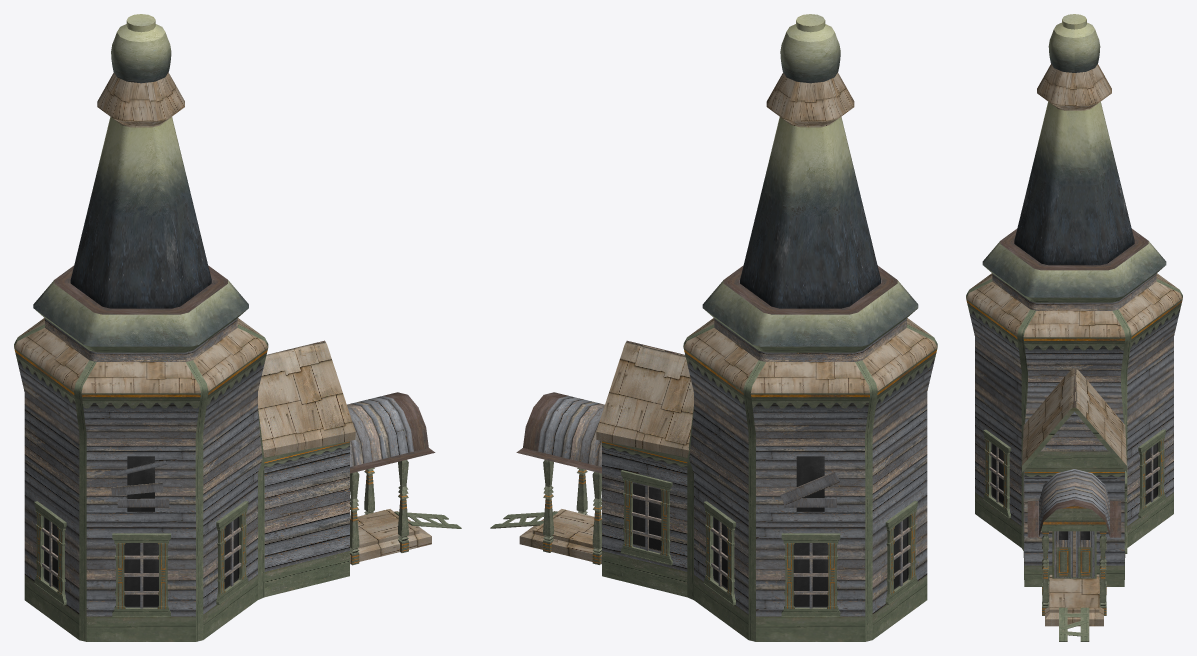
Rendered from Church.fbx.
3 renders of one model, left to right at view 1: azimuth 30°, elevation 25°; view 2: azimuth 150°, elevation 25°; view 3: azimuth 270°, elevation 25°, orthographic. The views are drawn at different scales.
Parts seen in each view (by area): view 1: Church; view 2: Church; view 3: Church.
Boxes of the visible parts, x1,y1,x2,y2 form: Church: [14, 14, 461, 641]; Church: [490, 14, 937, 641]; Church: [966, 14, 1182, 641].
Bounding box in the file's own units: 1132 × 1531 × 610.
